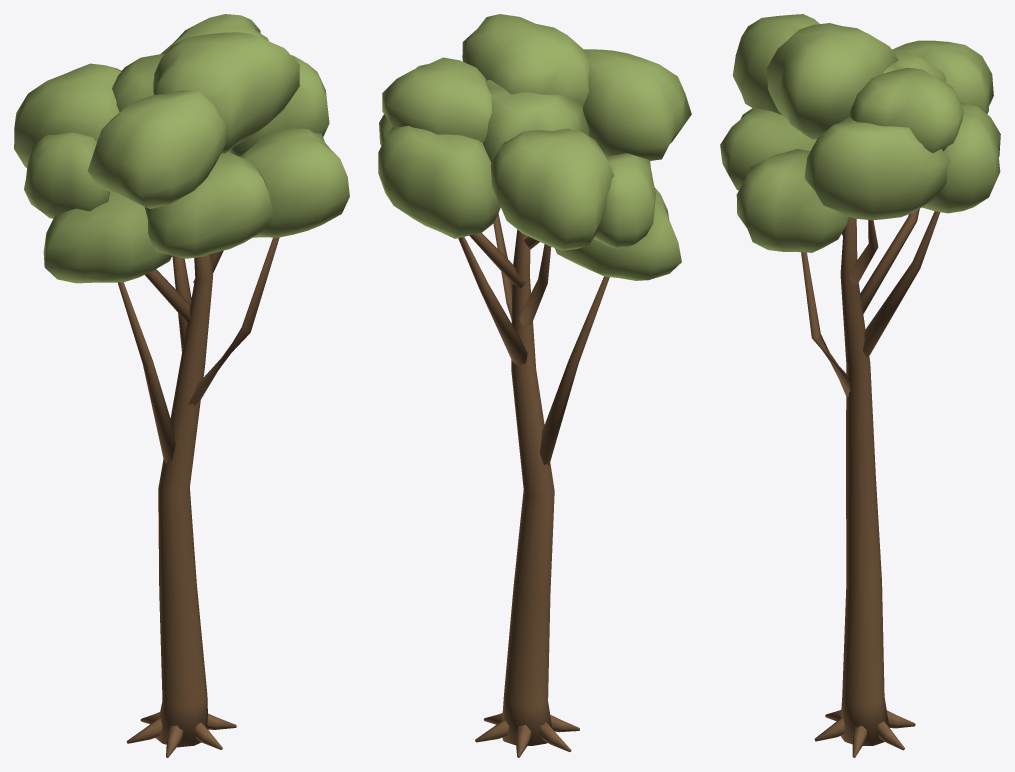
File: courtyard_tree.glb
The picture shows the model from 3 angles, left to right: view 1: azimuth 30°, elevation 25°; view 2: azimuth 150°, elevation 25°; view 3: azimuth 270°, elevation 25°; orthographic projection. The views are drawn at different scales.
Visible parts, largest first — view 1: Kit_leaf, Kit_wood; view 2: Kit_leaf, Kit_wood; view 3: Kit_leaf, Kit_wood.
Boxes of the visible parts, x1,y1,x2,y2 form: Kit_leaf: [14, 14, 349, 283]; Kit_wood: [117, 237, 279, 757]; Kit_leaf: [378, 14, 691, 280]; Kit_wood: [458, 213, 609, 757]; Kit_leaf: [720, 14, 1000, 252]; Kit_wood: [801, 208, 940, 757].
Bounding box in the file's own units: 1.68 × 3.99 × 1.43.
